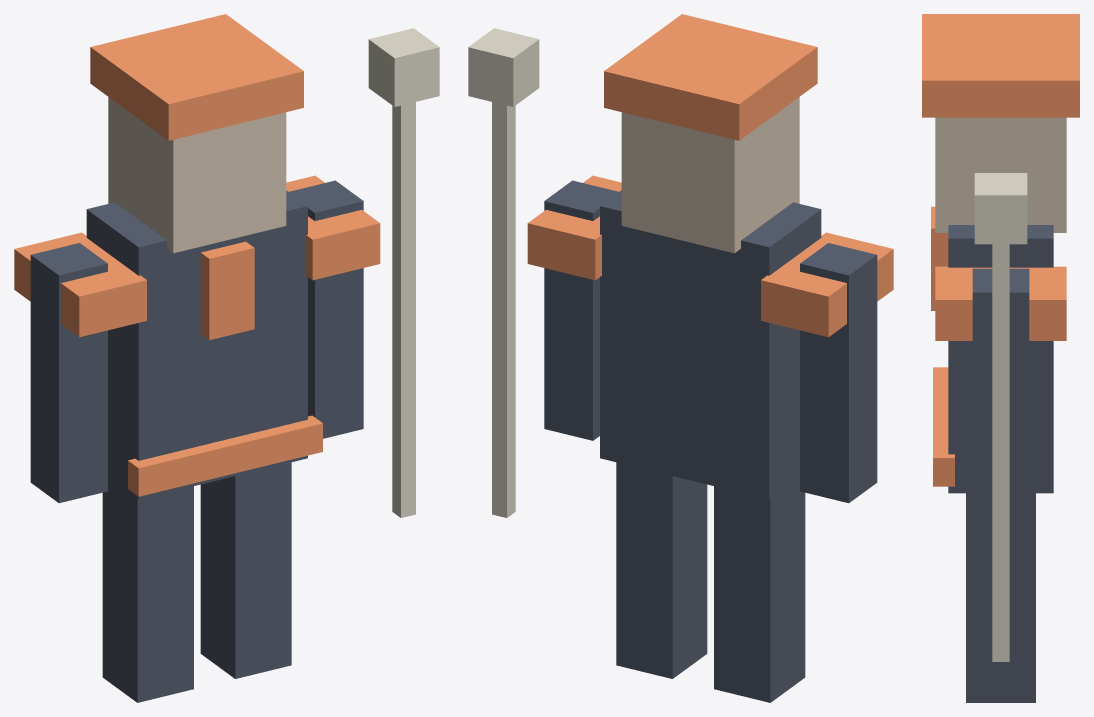
The model's file is 09_edda_ironwake_runner_near_shuttle.glb.
3 views of the same model, side by side, from view 1: azimuth 30°, elevation 25°; view 2: azimuth 150°, elevation 25°; view 3: azimuth 270°, elevation 25° (orthographic).
Visible parts, largest first — view 1: Edda Ironwake, Runner near Shuttle; view 2: Edda Ironwake, Runner near Shuttle; view 3: Edda Ironwake, Runner near Shuttle.
Part boxes in pixels (x1,y1,x2,y2): Edda Ironwake, Runner near Shuttle: [14, 14, 439, 702]; Edda Ironwake, Runner near Shuttle: [468, 14, 893, 702]; Edda Ironwake, Runner near Shuttle: [922, 14, 1079, 702].
Bounding box in the file's own units: 1.06 × 1.62 × 0.3753.
